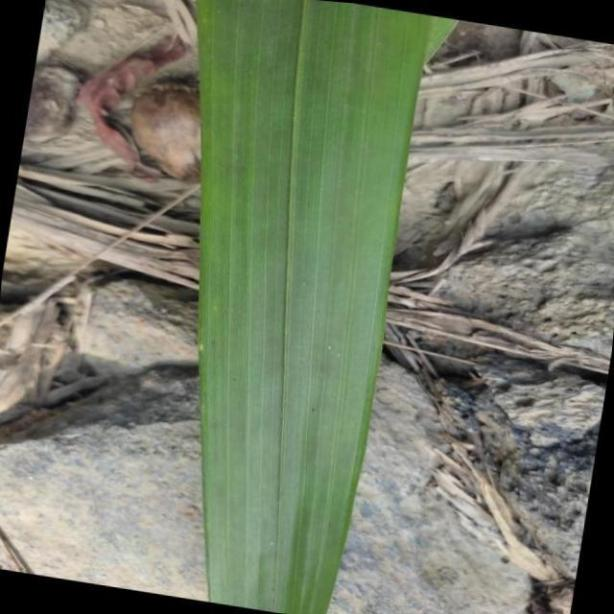Healthy: (191, 0, 436, 614)
